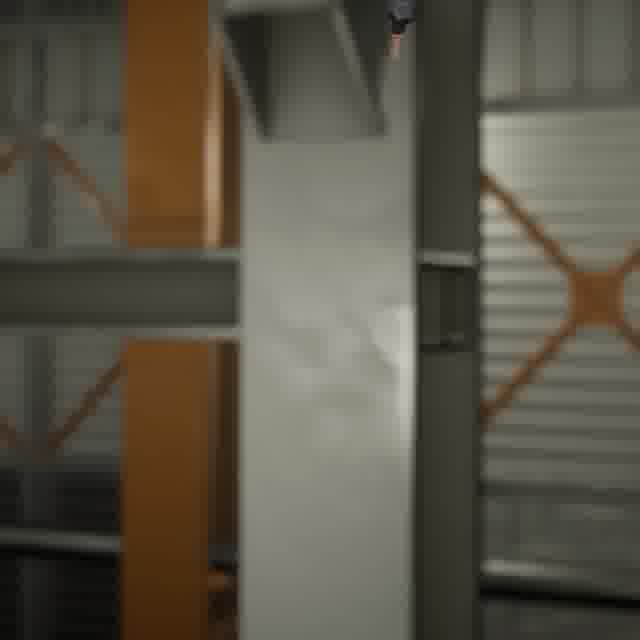bolt: (382, 0, 419, 62)
